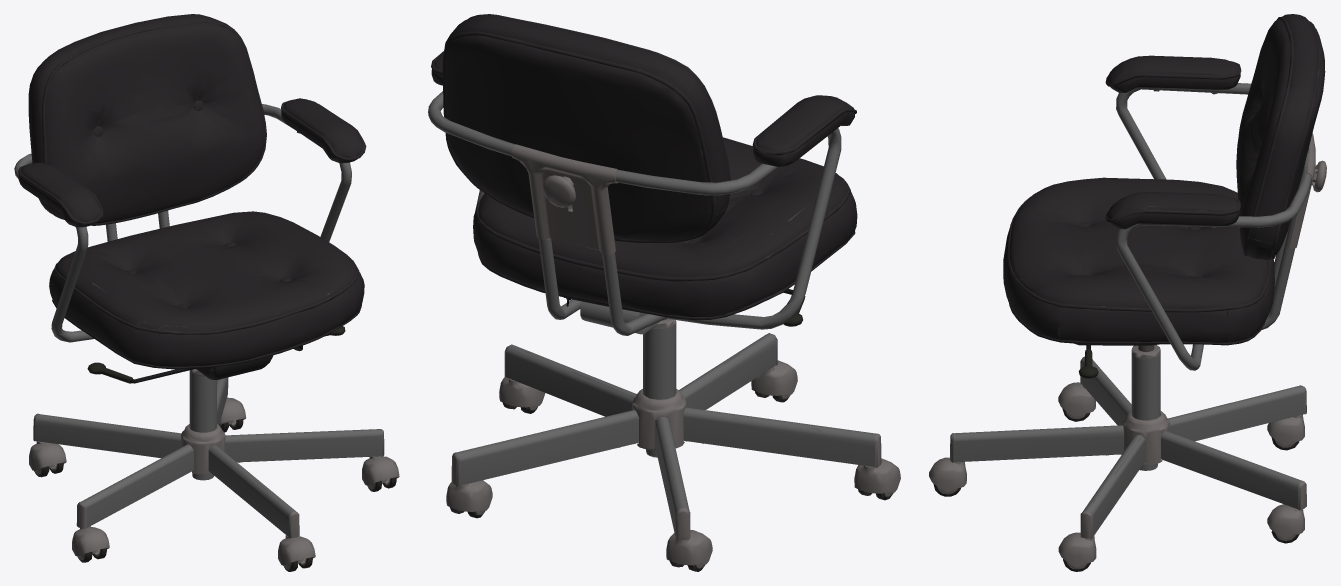
File: 22 - ALEFJÄLL Office chair - Glose black.glb
3 renders of one model, left to right at view 1: azimuth 30°, elevation 25°; view 2: azimuth 150°, elevation 25°; view 3: azimuth 270°, elevation 25°, orthographic. The views are drawn at different scales.
Visible parts, largest first — view 1: 70367458-ALEFJÃ„LL001; view 2: 70367458-ALEFJÃ„LL001; view 3: 70367458-ALEFJÃ„LL001.
Boxes of the visible parts, bbox=[...] form: 70367458-ALEFJÃ„LL001: bbox=[14, 14, 399, 571]; 70367458-ALEFJÃ„LL001: bbox=[428, 14, 900, 571]; 70367458-ALEFJÃ„LL001: bbox=[929, 14, 1326, 571].
Size of the model in its own units: 0.6742 by 0.8452 by 0.6846.
Materials: 1 (1 with a texture image).
